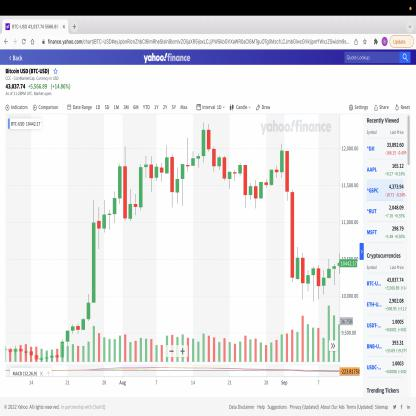Bearish: 3 Line Strike: (107, 143, 128, 234)
Bearish: Tweezer Top: (200, 119, 212, 168)
